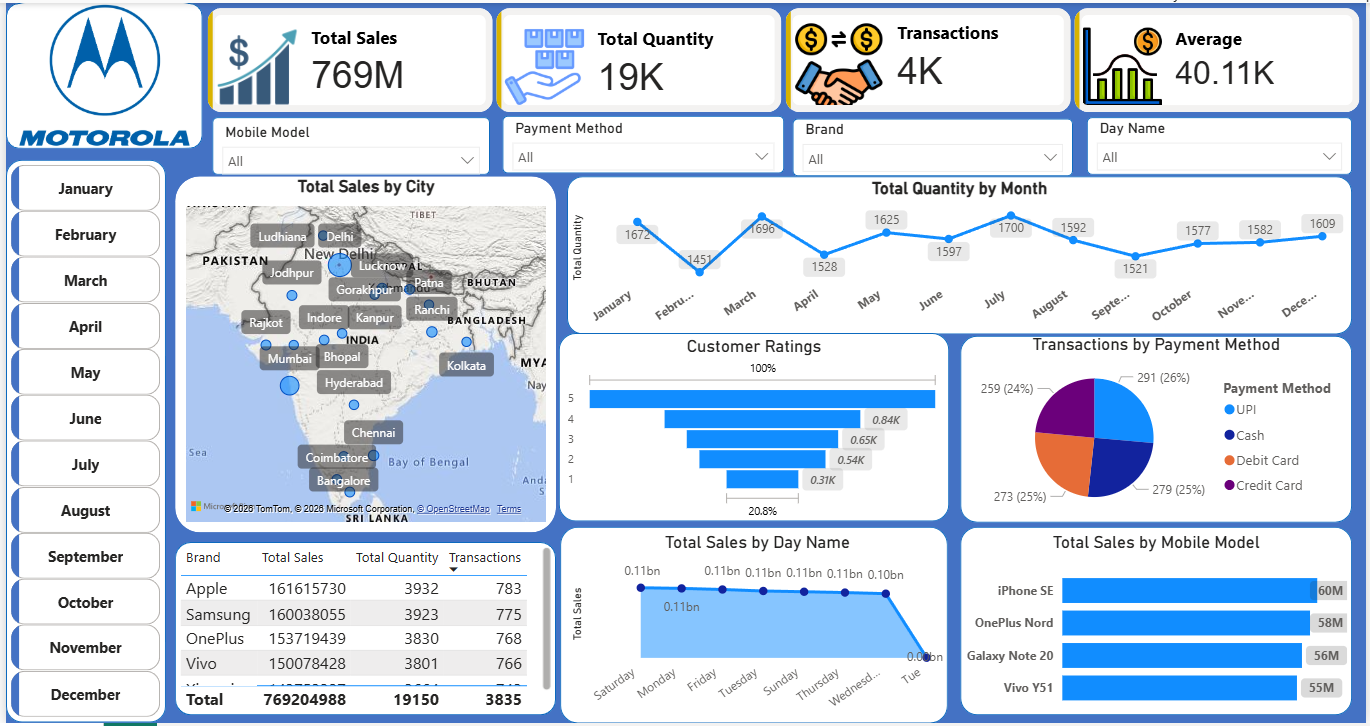

What the dashboard file says about the page in this screenshot:
{"tool":"powerbi","page":{"name":"Page 1","canvas":[1360,720],"ordinal":0},"visuals":[{"type":"shape","box":[1081,114.1,265.4,57.8],"z":0},{"type":"shape","box":[786.7,115.5,280.6,57.8],"z":1000},{"type":"shape","box":[496.5,112.8,281.9,57.8],"z":2000},{"type":"shape","box":[206.3,114.1,277.8,57.8],"z":3000},{"type":"shape","box":[0,0,196.7,145.8],"z":4000},{"type":"shape","box":[954.4,524,392,188.4],"z":5000},{"type":"shape","box":[554.2,524,387.8,196.7],"z":6000},{"type":"shape","box":[0,157.1,160,562.9],"z":7000},{"type":"advancedSlicerVisual","fields":{"Values":["Sales Data.Date.Variation.Date Hierarchy.Month"]},"box":[0,156.8,159.5,563.9],"z":8000},{"type":"cardVisual","fields":{"Data":["Sales Data.Total Sales","Sales Data.Total Quantity","Sales Data.Transactions","Sales Data.Average","Sales Data.Total Sales"]},"box":[196.7,0,1163.5,114.1],"z":9000},{"type":"shape","box":[169.2,173.3,381,356.2],"z":10000},{"type":"map","fields":{"Size":["Sales Data.Total Sales"],"Category":["Sales Data.City"]},"box":[180.2,173.3,360.3,345.2],"z":11000},{"type":"shape","box":[561.1,173.3,785.3,158.2],"z":12000},{"type":"lineChart","fields":{"Category":["Sales Data.Date.Variation.Date Hierarchy.Month"],"Y":["Sales Data.Total Quantity"]},"box":[561.1,174.7,785.3,158.2],"z":13000},{"type":"shape","box":[552.9,330.1,390.6,188.4],"z":14000},{"type":"shape","box":[954.4,332.8,392,187],"z":15000},{"type":"shape","box":[169.2,539.1,381,173.3],"z":16000},{"type":"pieChart","fields":{"Category":["Sales Data.Payment Method"],"Y":["Sales Data.Transactions"]},"box":[954.4,331.4,392,187],"z":17000},{"type":"funnel","title":" Customer Ratings","fields":{"Y":["CountNonNull(Sales Data.Customer Ratings)"],"Category":["Sales Data.Customer Ratings"]},"box":[557,332.8,382.3,187],"z":18000},{"type":"clusteredBarChart","fields":{"Category":["Sales Data.Mobile Model"],"Y":["Sales Data.Total Sales"]},"box":[954.4,529.5,392,187],"z":19000},{"type":"areaChart","fields":{"Y":["Sales Data.Total Sales"],"Category":["Sales Data.Day Name"]},"box":[561.1,529.5,381,188.4],"z":20000},{"type":"tableEx","fields":{"Values":["Sales Data.Brand","Sales Data.Total Sales","Sales Data.Total Quantity","Sales Data.Transactions"]},"box":[169.2,539.1,381,173.3],"z":21000},{"type":"image","box":[0,0,196.7,144.4],"z":22000},{"type":"slicer","fields":{"Values":["Sales Data.Day Name"]},"box":[1081,111.4,265.4,59.1],"z":24000},{"type":"slicer","fields":{"Values":["Sales Data.Mobile Model"]},"box":[206.3,115.5,277.8,59.1],"z":25000},{"type":"slicer","fields":{"Values":["Sales Data.Payment Method"]},"box":[496.5,111.4,281.9,56.4],"z":26000},{"type":"slicer","fields":{"Values":["Sales Data.Brand"]},"box":[786.7,112.8,280.6,59.1],"z":26500}]}

Visuals, with their boxes in screenshot pixels (x1, y1, x2, y2), scaled from the page's 1360x720 canvas onto the 1370x726 screenshot:
shape: (1089, 115, 1356, 173)
shape: (792, 116, 1075, 175)
shape: (500, 114, 784, 172)
shape: (208, 115, 488, 173)
shape: (0, 0, 198, 147)
shape: (961, 528, 1356, 718)
shape: (558, 528, 949, 725)
shape: (0, 158, 161, 725)
advancedSlicerVisual - Sales Data.Date.Variation.Date Hierarchy.Month: (0, 158, 161, 725)
cardVisual - Sales Data.Total Sales x Sales Data.Total Quantity: (198, 0, 1369, 115)
shape: (170, 175, 554, 534)
map - Sales Data.Total Sales x Sales Data.City: (182, 175, 544, 523)
shape: (565, 175, 1356, 334)
lineChart - Sales Data.Date.Variation.Date Hierarchy.Month x Sales Data.Total Quantity: (565, 176, 1356, 336)
shape: (557, 333, 950, 523)
shape: (961, 336, 1356, 524)
shape: (170, 544, 554, 718)
pieChart - Sales Data.Payment Method x Sales Data.Transactions: (961, 334, 1356, 523)
" Customer Ratings" funnel: (561, 336, 946, 524)
clusteredBarChart - Sales Data.Mobile Model x Sales Data.Total Sales: (961, 534, 1356, 722)
areaChart - Sales Data.Total Sales x Sales Data.Day Name: (565, 534, 949, 724)
tableEx - Sales Data.Brand x Sales Data.Total Sales: (170, 544, 554, 718)
image: (0, 0, 198, 146)
slicer - Sales Data.Day Name: (1089, 112, 1356, 172)
slicer - Sales Data.Mobile Model: (208, 116, 488, 176)
slicer - Sales Data.Payment Method: (500, 112, 784, 169)
slicer - Sales Data.Brand: (792, 114, 1075, 173)
